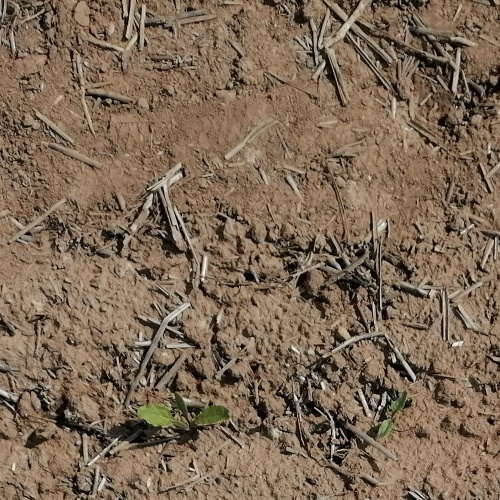beet: (136, 392, 226, 435), (377, 389, 409, 440)
